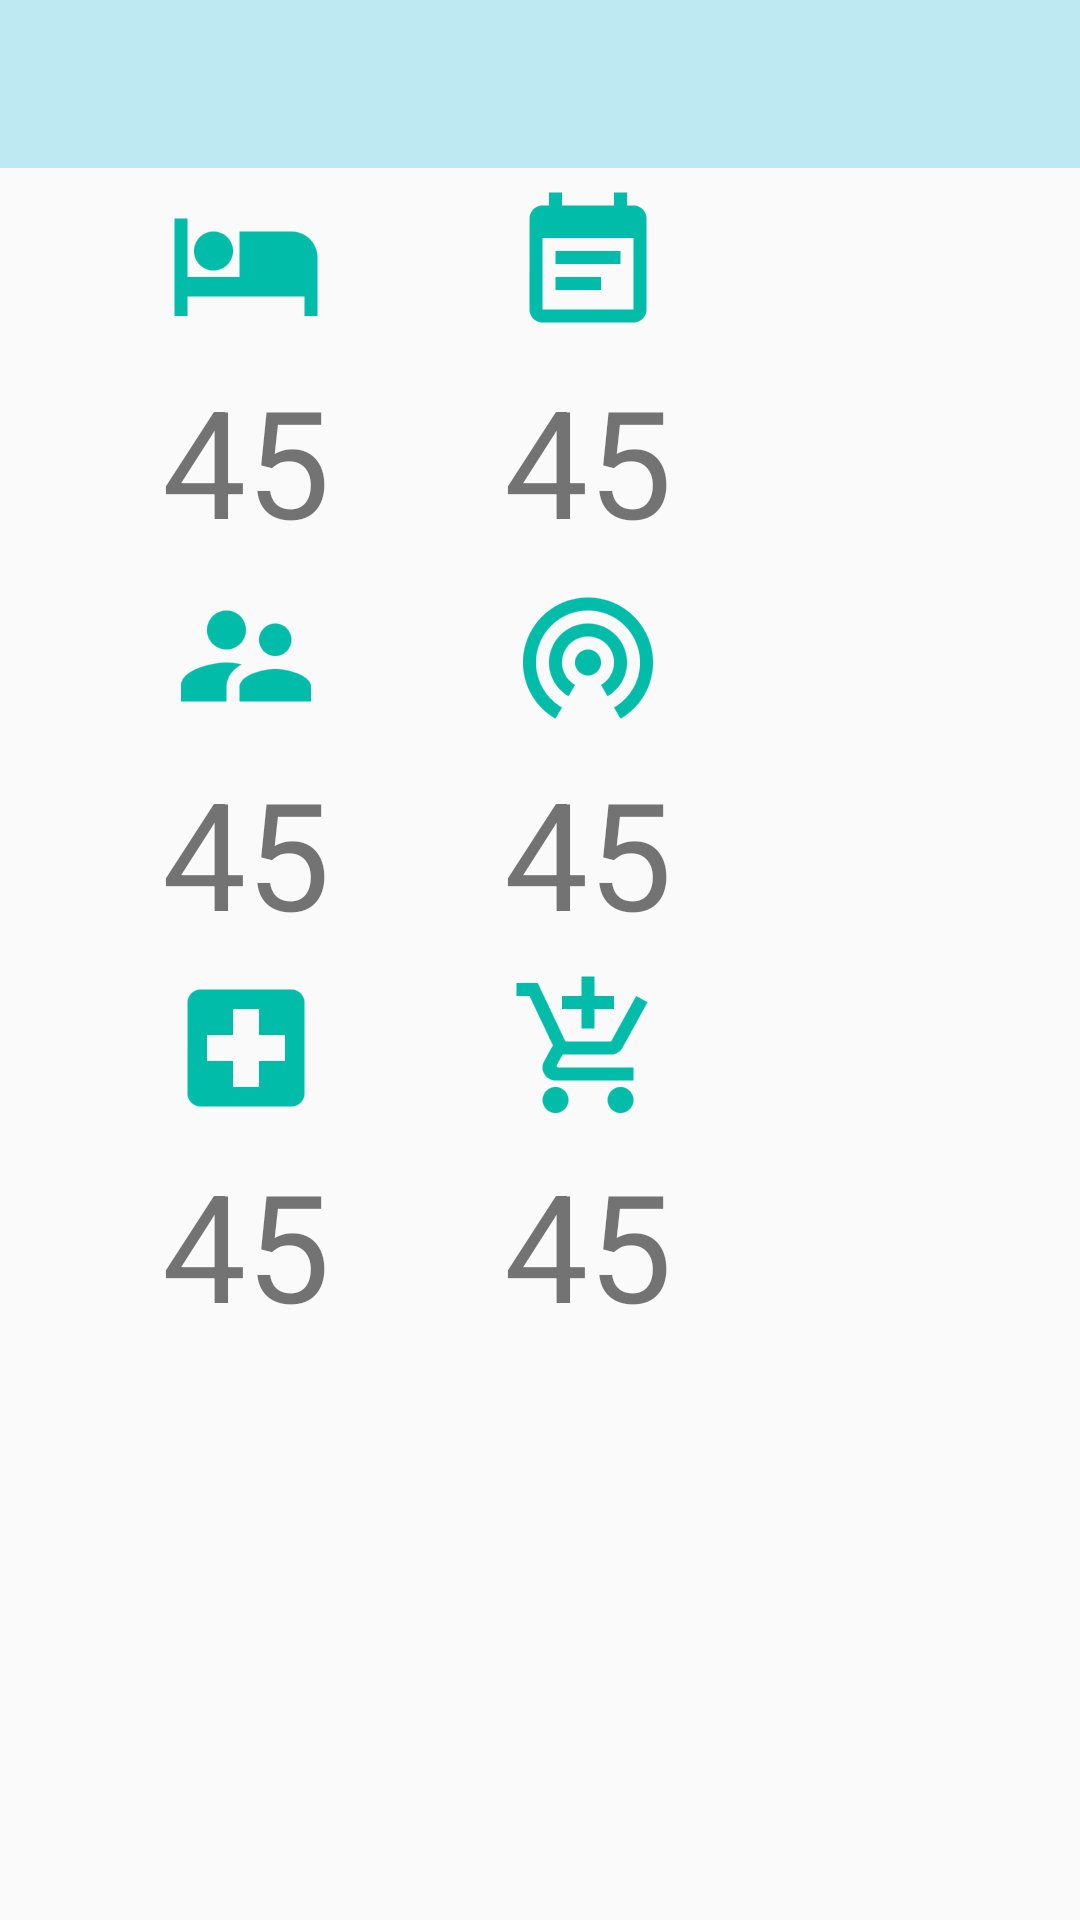

Icons on this 1080 × 1920 Android screen, each with its box as bbox=[x1, y1, x2, y2]:
beacon: bbox=[523, 597, 653, 719]
bed: bbox=[174, 218, 318, 316]
patient: bbox=[181, 610, 311, 702]
